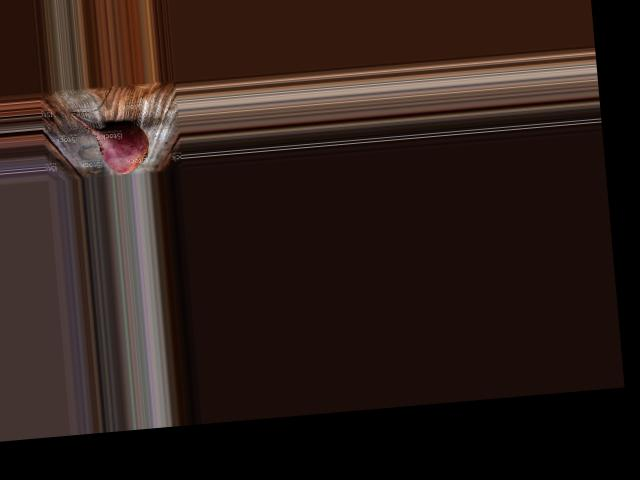beet: (69, 106, 150, 177)
